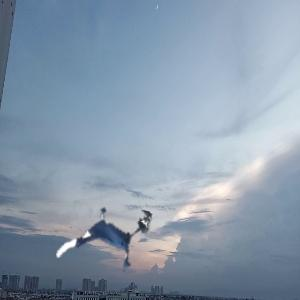drone: (59, 201, 147, 289)
